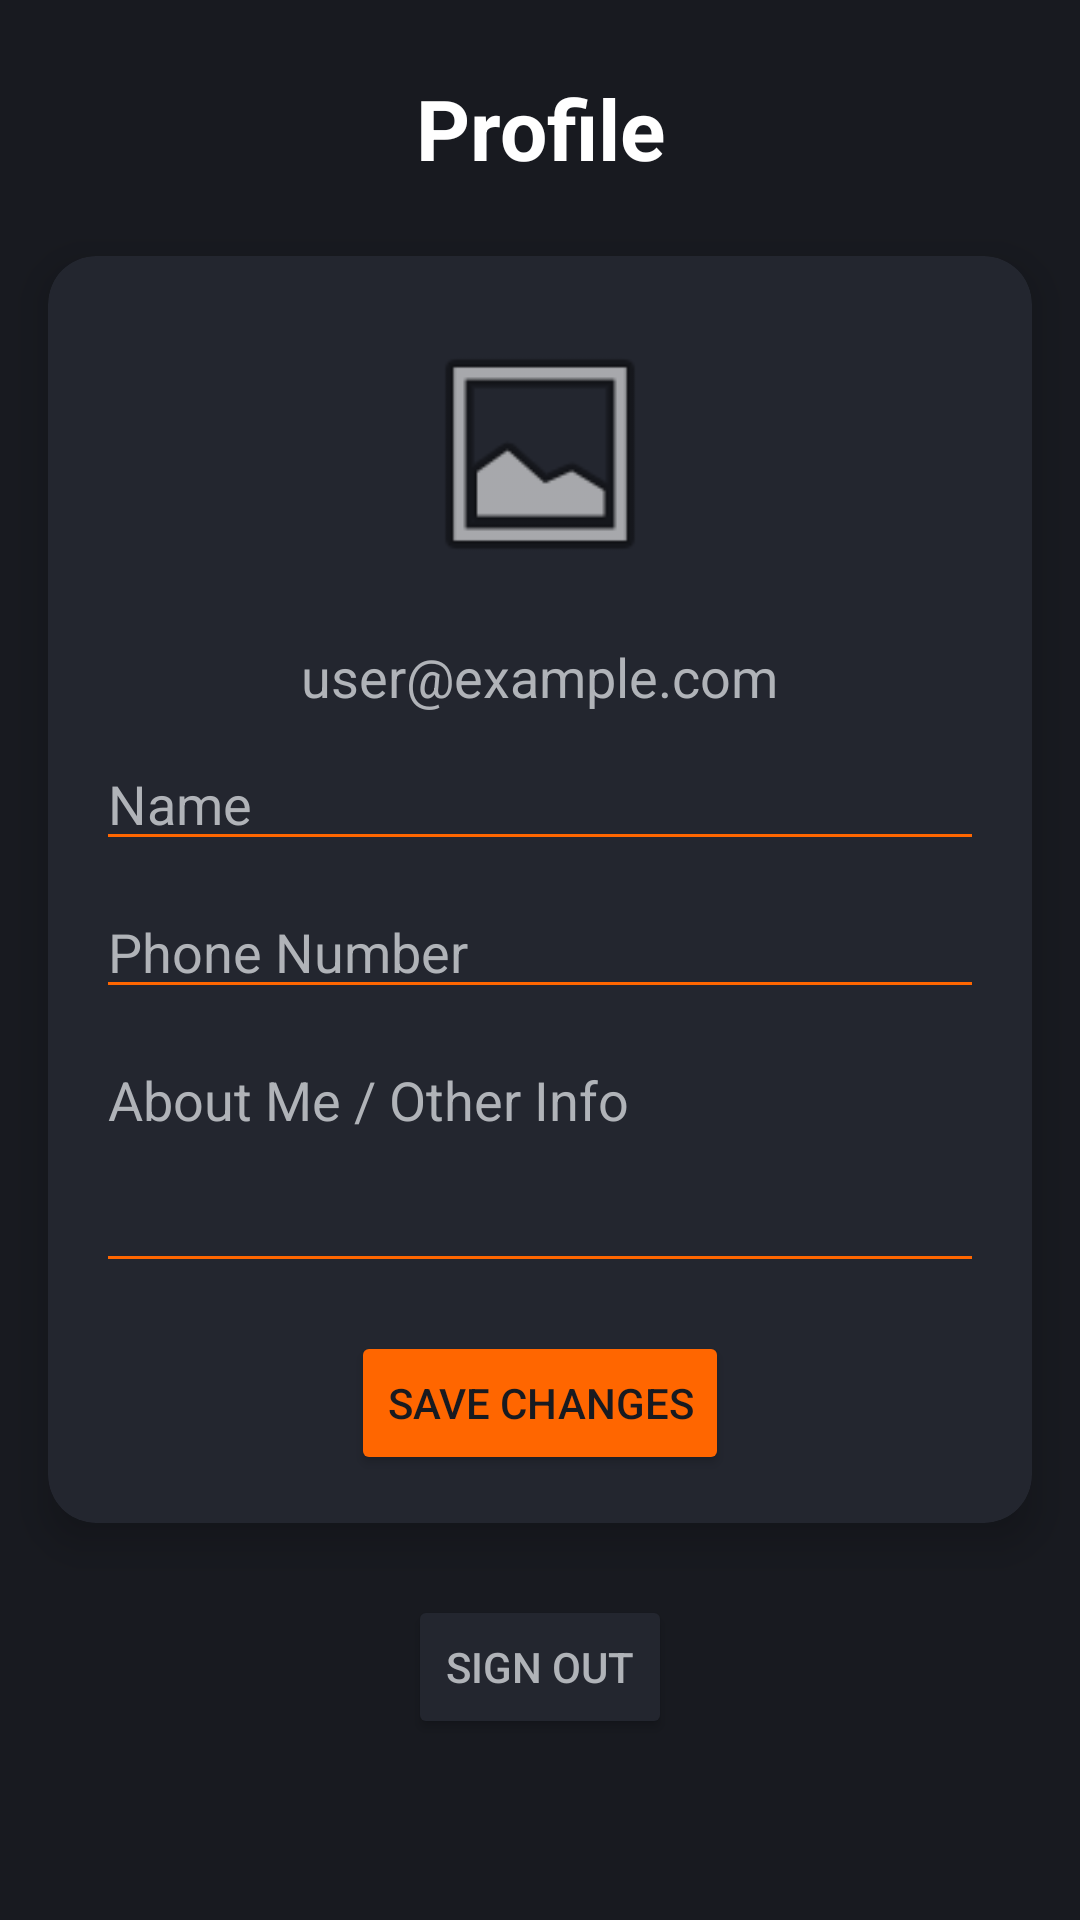

Screen size 1080px x 1920px. Icon name, then its box in pixels as (x1, y1, x2, y2):
gallery: (445, 359, 635, 549)
